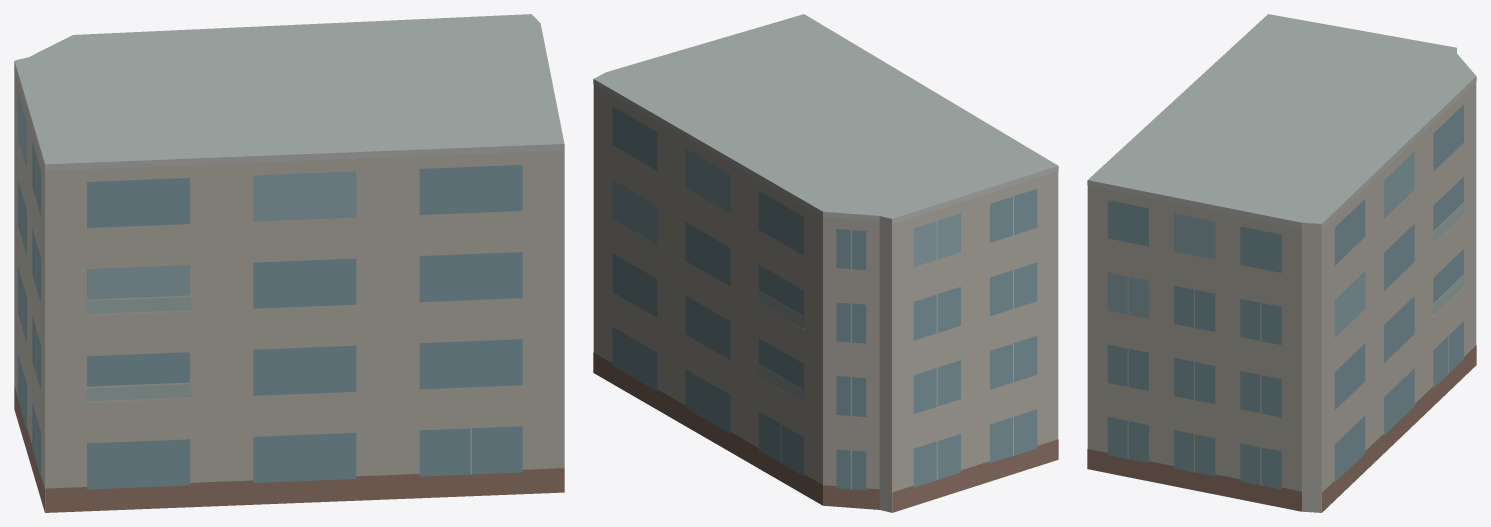
Rendered from survey-upis-32633015.glb.
The picture shows the model from 3 angles, left to right: view 1: azimuth 30°, elevation 25°; view 2: azimuth 150°, elevation 25°; view 3: azimuth 270°, elevation 25°; orthographic projection. The views are drawn at different scales.
Parts seen in each view (by area): view 1: survey-upis-32633015.tmp; view 2: survey-upis-32633015.tmp; view 3: survey-upis-32633015.tmp.
Part boxes in pixels (x1,y1,x2,y2): survey-upis-32633015.tmp: (14, 14, 564, 512); survey-upis-32633015.tmp: (593, 14, 1058, 512); survey-upis-32633015.tmp: (1087, 14, 1476, 512).
Bounding box in the file's own units: 20.57 × 13.2 × 16.11.
